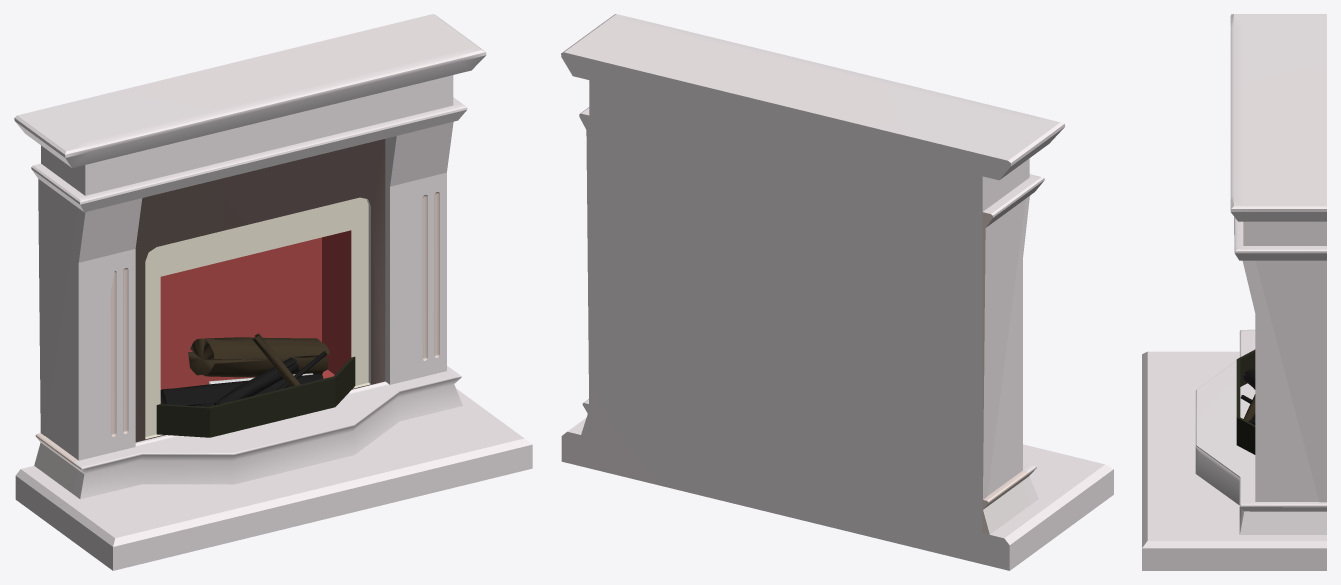
The model's file is Fireplace.fbx.
3 renders of one model, left to right at view 1: azimuth 30°, elevation 25°; view 2: azimuth 150°, elevation 25°; view 3: azimuth 270°, elevation 25°, orthographic. The views are drawn at different scales.
Parts seen in each view (by area): view 1: polySurface13; view 2: polySurface13; view 3: polySurface13.
Part boxes in pixels (left/top/right/bottom): polySurface13: left=14, top=14, right=532, bottom=570; polySurface13: left=561, top=14, right=1113, bottom=570; polySurface13: left=1142, top=14, right=1326, bottom=570.
Size of the model in its own units: 276 by 240 by 111.
